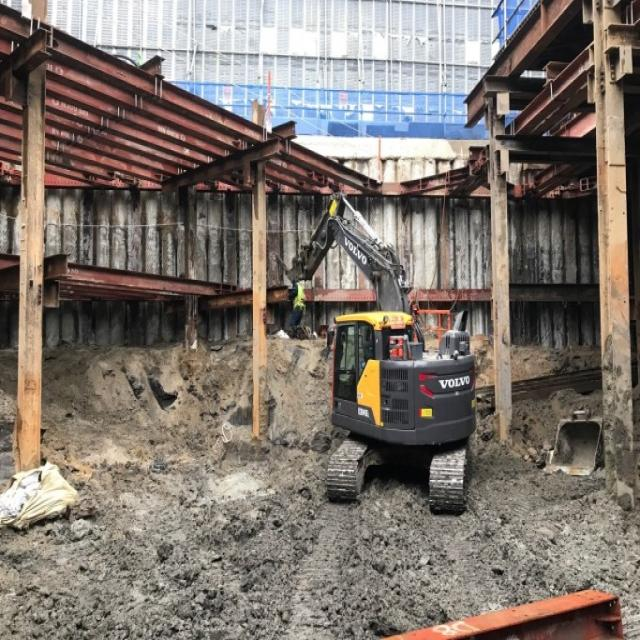excavator: (285, 192, 476, 516)
